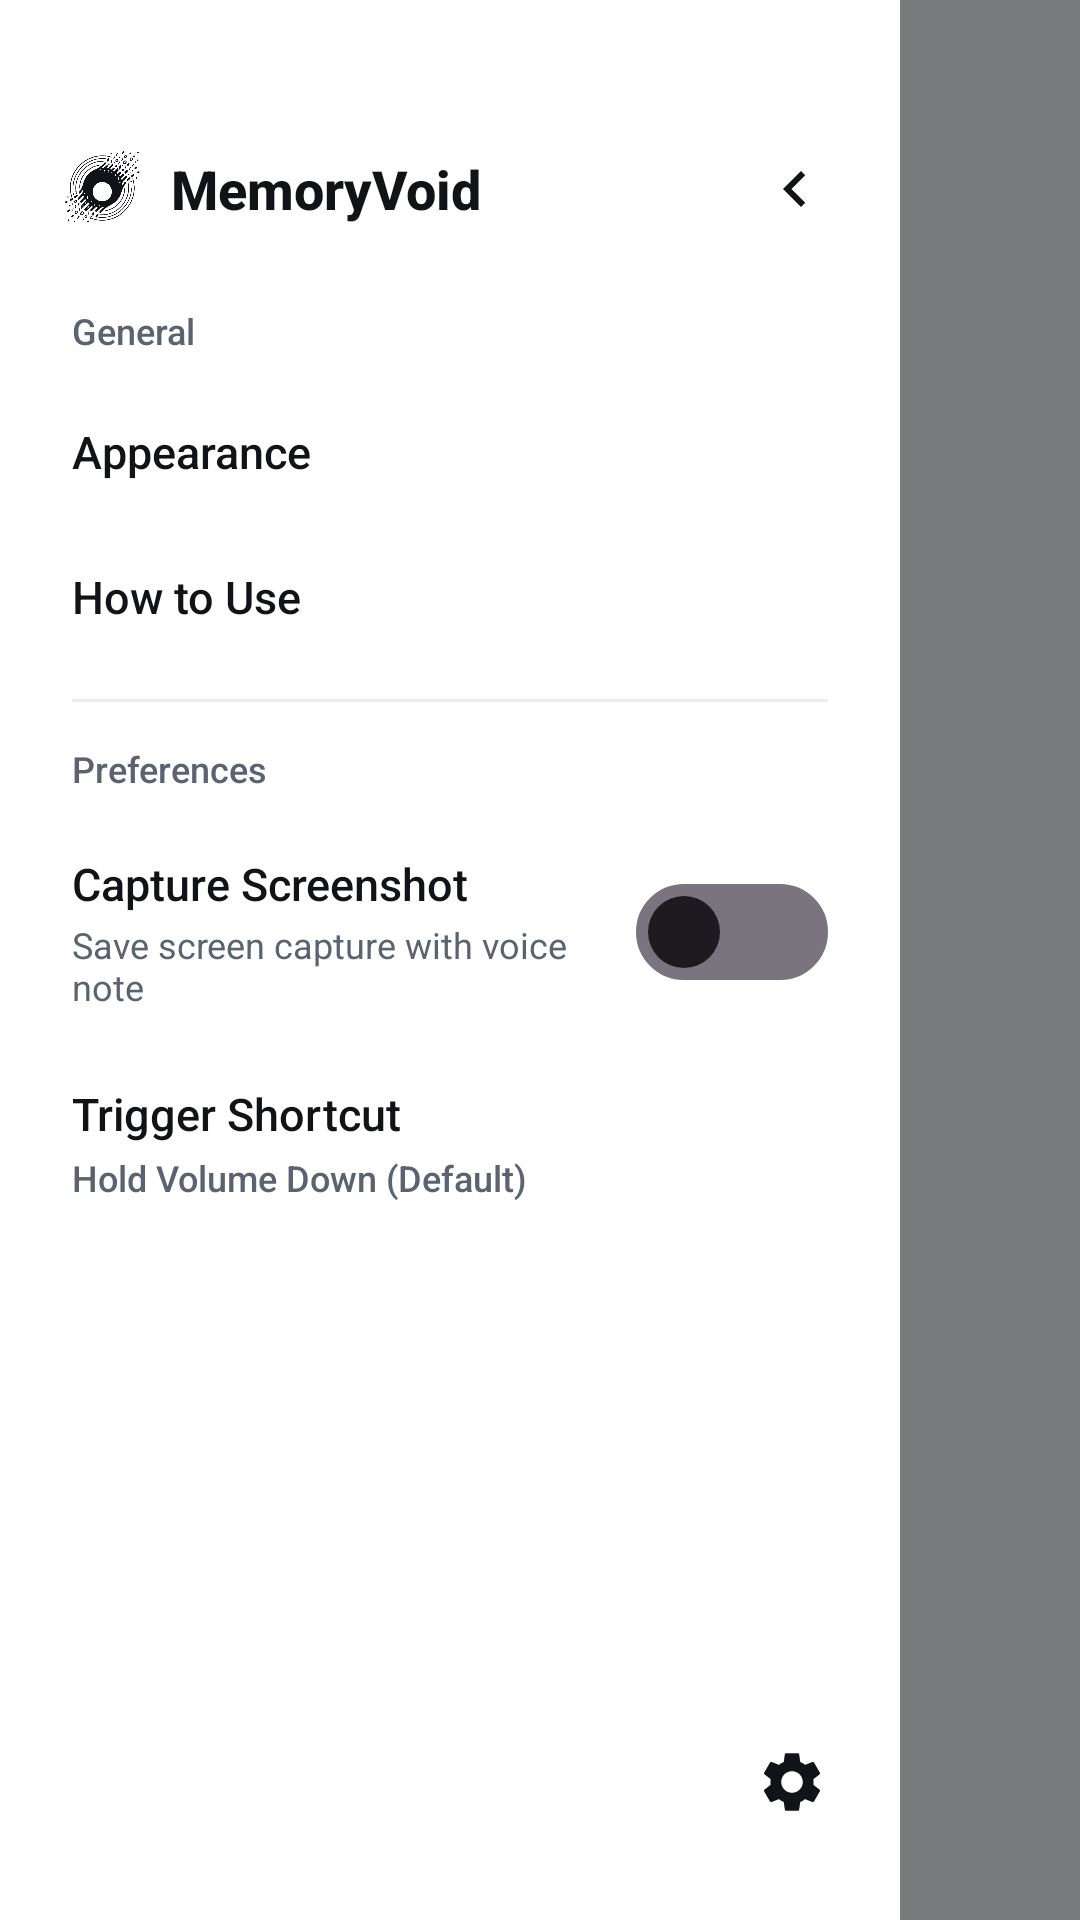

Where icons sit on this 1080×1920 app screen, as (left=x1, top=y1, right=x2, bottom=y2):
Settings: (left=764, top=1753, right=820, bottom=1811)
